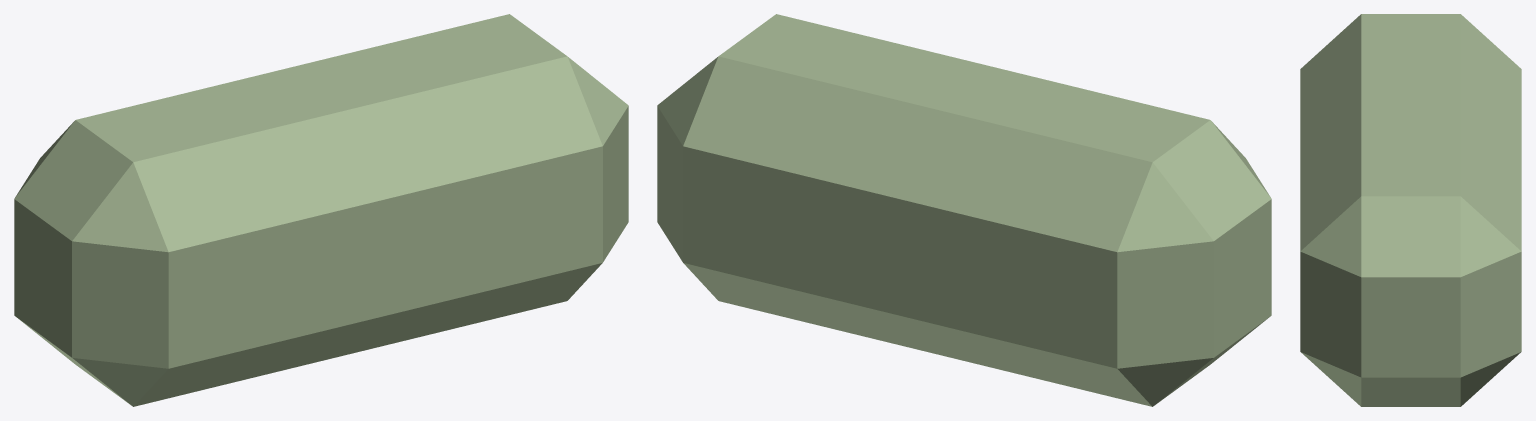
File: SM_Hedge.fbx
3 renders of one model, left to right at view 1: azimuth 30°, elevation 25°; view 2: azimuth 150°, elevation 25°; view 3: azimuth 270°, elevation 25°, orthographic. The views are drawn at different scales.
Parts seen in each view (by area): view 1: Hedge; view 2: Hedge; view 3: Hedge.
Part boxes in pixels (x1,y1,x2,y2): Hedge: [14, 14, 628, 406]; Hedge: [657, 14, 1271, 406]; Hedge: [1300, 14, 1521, 406].
Bounding box in the file's own units: 200 × 84 × 80.
